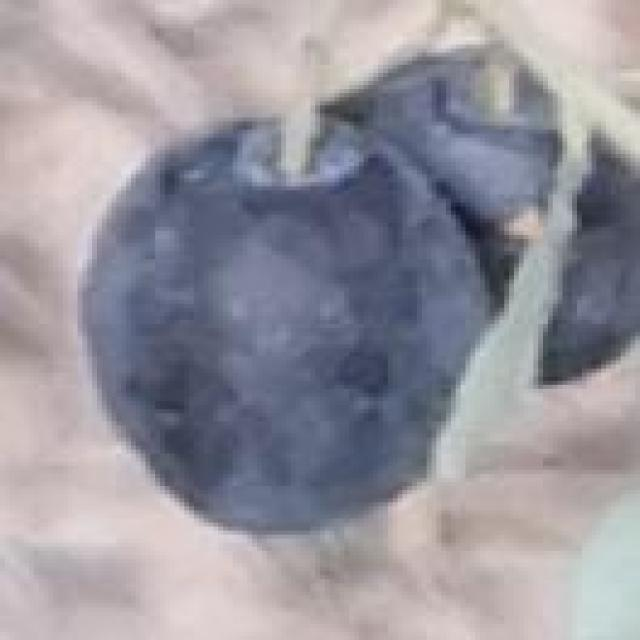Healthy: (87, 117, 501, 527)
